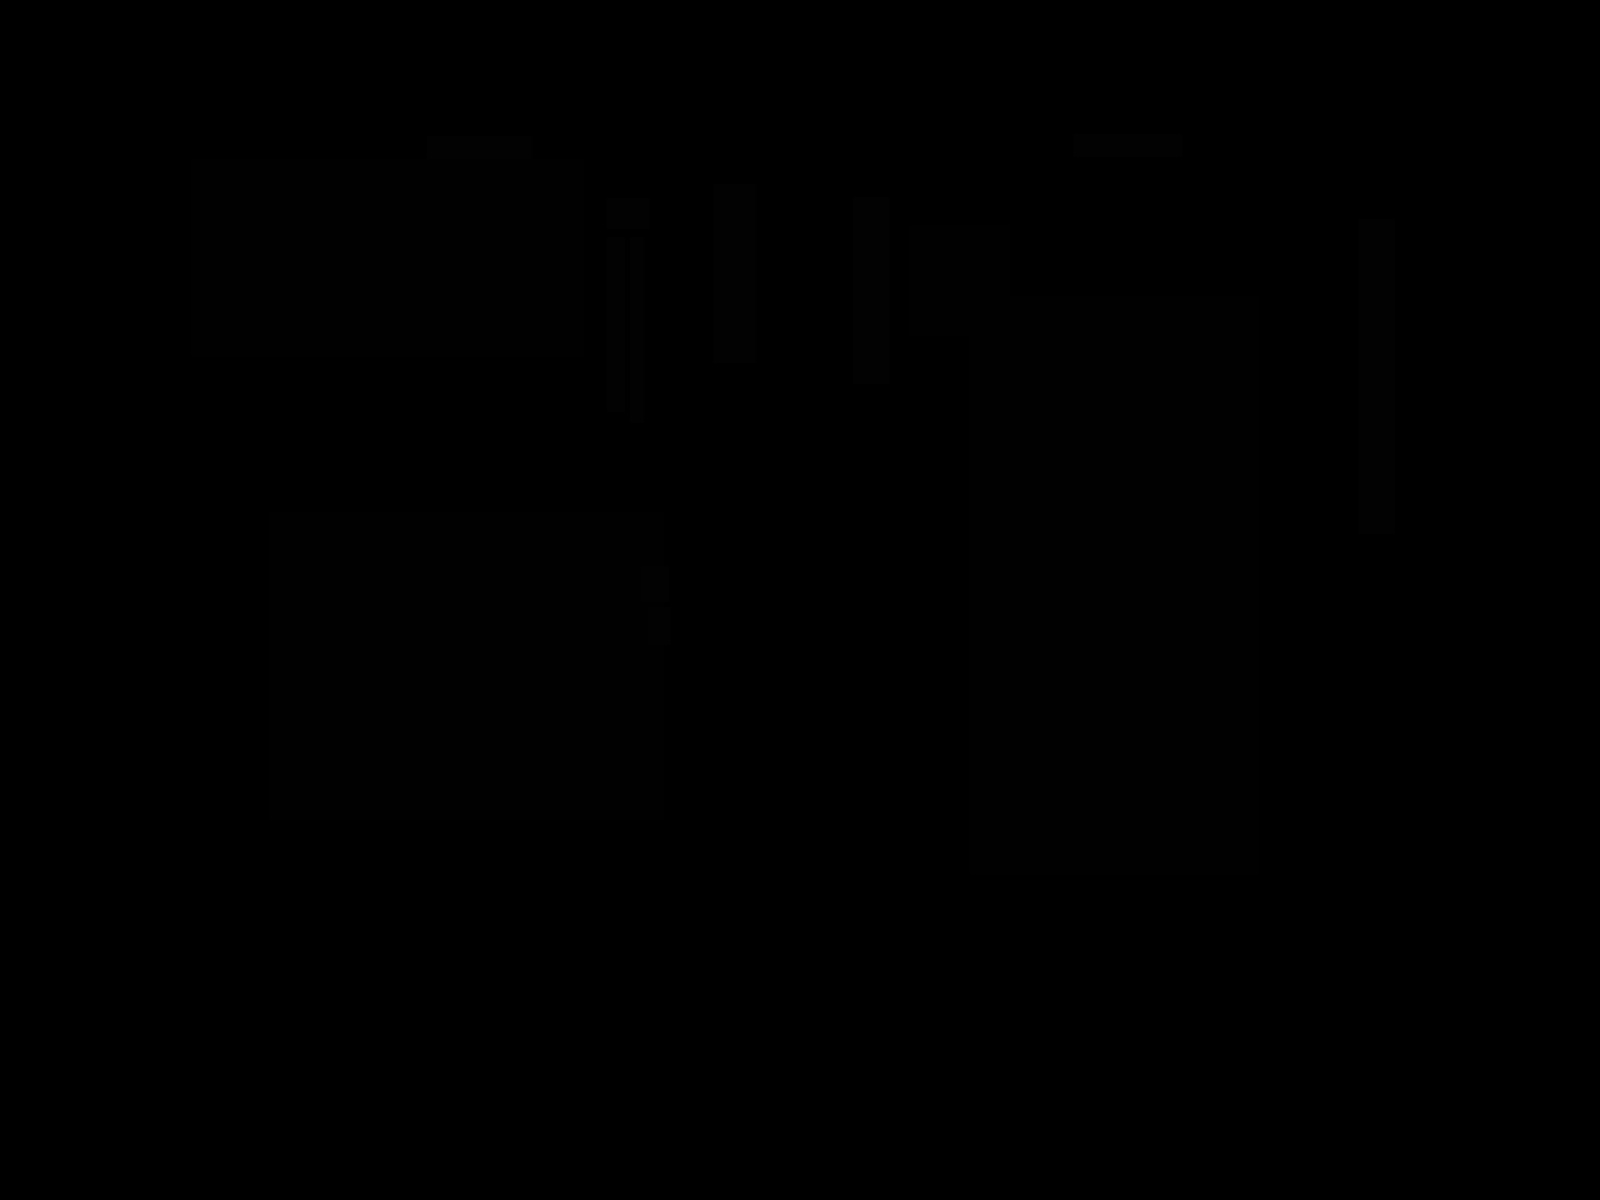1_overall: (86, 58, 1529, 1002)
3_typography: (1358, 219, 1395, 534), (713, 184, 756, 363), (853, 197, 889, 384), (607, 237, 625, 412), (1073, 134, 1182, 158), (630, 237, 644, 424), (427, 136, 532, 159), (607, 198, 650, 229), (641, 566, 669, 603), (648, 608, 671, 645)
4_illustration: (969, 296, 1259, 875), (270, 512, 664, 821), (191, 159, 585, 357), (910, 224, 1010, 337)
